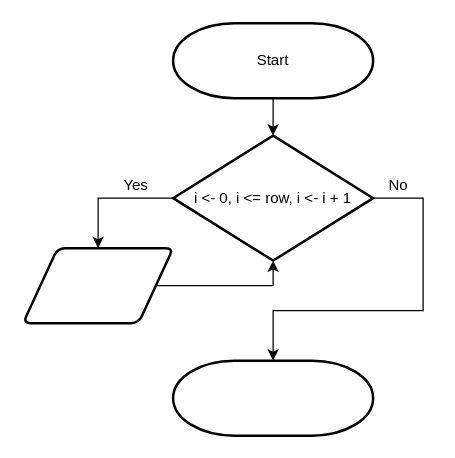
Some shapes in this 455 by 458 pixel diagram are drawn without their labels. Here are the shapes that lost their labels. From the top down, the centre of each, then its label:
[97,285]: row
[272,397]: End
